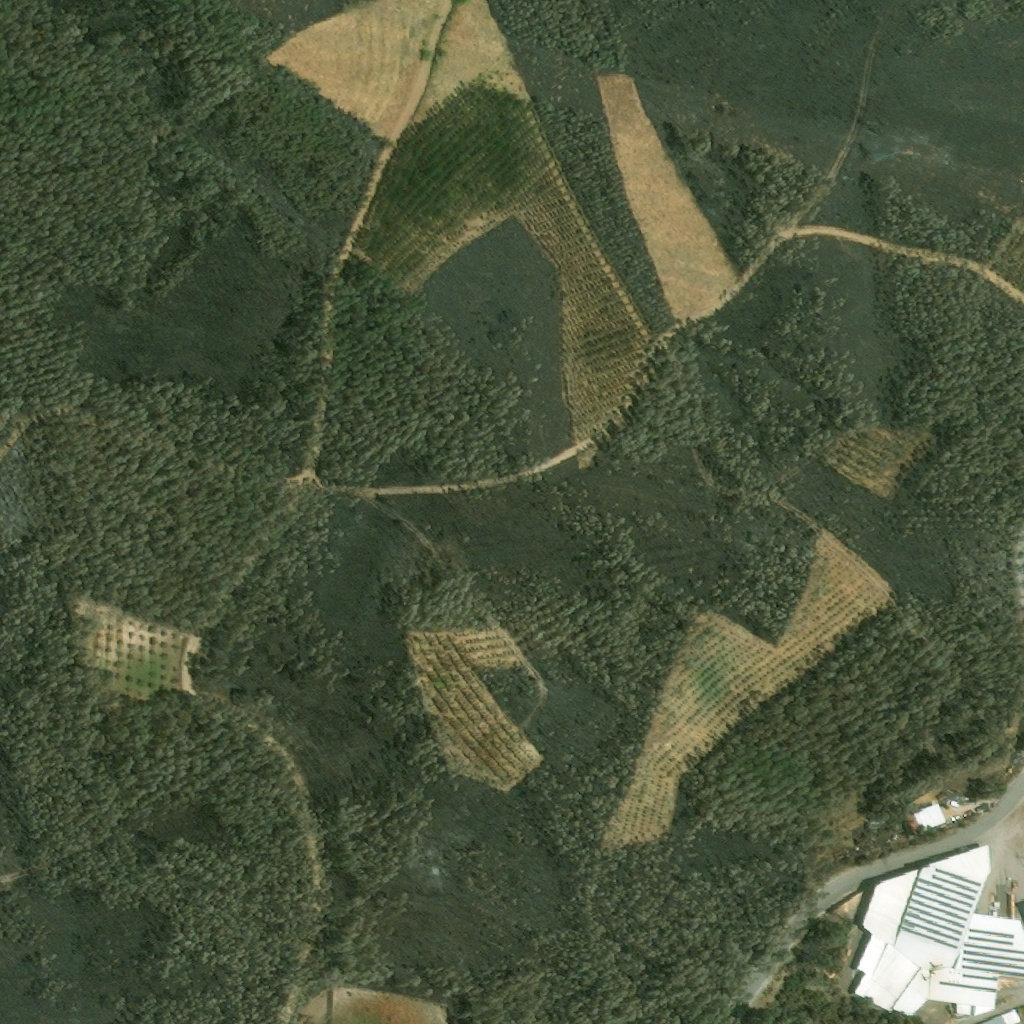0 no-damage: (854, 843, 1023, 1016), (905, 803, 947, 833), (979, 1008, 1022, 1023)
